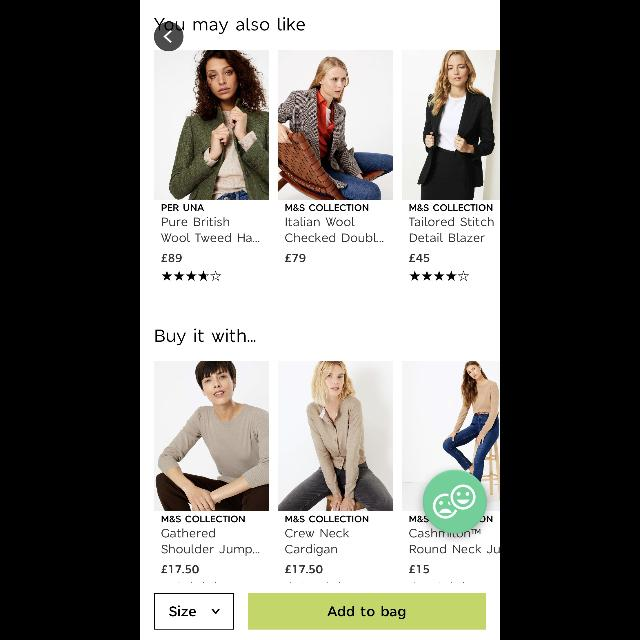icon: (154, 22, 183, 52), (409, 270, 469, 282), (161, 271, 221, 281), (212, 608, 220, 614)
image: (154, 361, 270, 511), (154, 50, 270, 200), (278, 361, 392, 511), (278, 50, 392, 200), (402, 361, 500, 511), (402, 50, 500, 200), (423, 469, 487, 533)
text: (154, 18, 306, 34), (156, 328, 256, 346), (162, 544, 260, 556), (410, 544, 500, 554), (408, 217, 494, 227), (162, 234, 260, 242), (285, 234, 383, 242), (410, 233, 484, 243), (410, 528, 480, 538), (162, 217, 230, 227), (286, 217, 354, 227), (285, 515, 369, 523), (284, 527, 350, 537), (286, 204, 368, 212), (410, 204, 492, 212), (284, 544, 338, 556), (161, 528, 215, 538), (162, 516, 245, 522), (283, 565, 323, 575), (161, 564, 199, 574), (162, 204, 204, 212), (170, 606, 197, 616), (409, 564, 429, 574), (162, 254, 182, 262), (286, 254, 306, 262), (409, 254, 429, 262), (409, 516, 429, 522), (480, 516, 492, 522)
textbutton: (248, 593, 486, 629), (154, 592, 234, 630)
